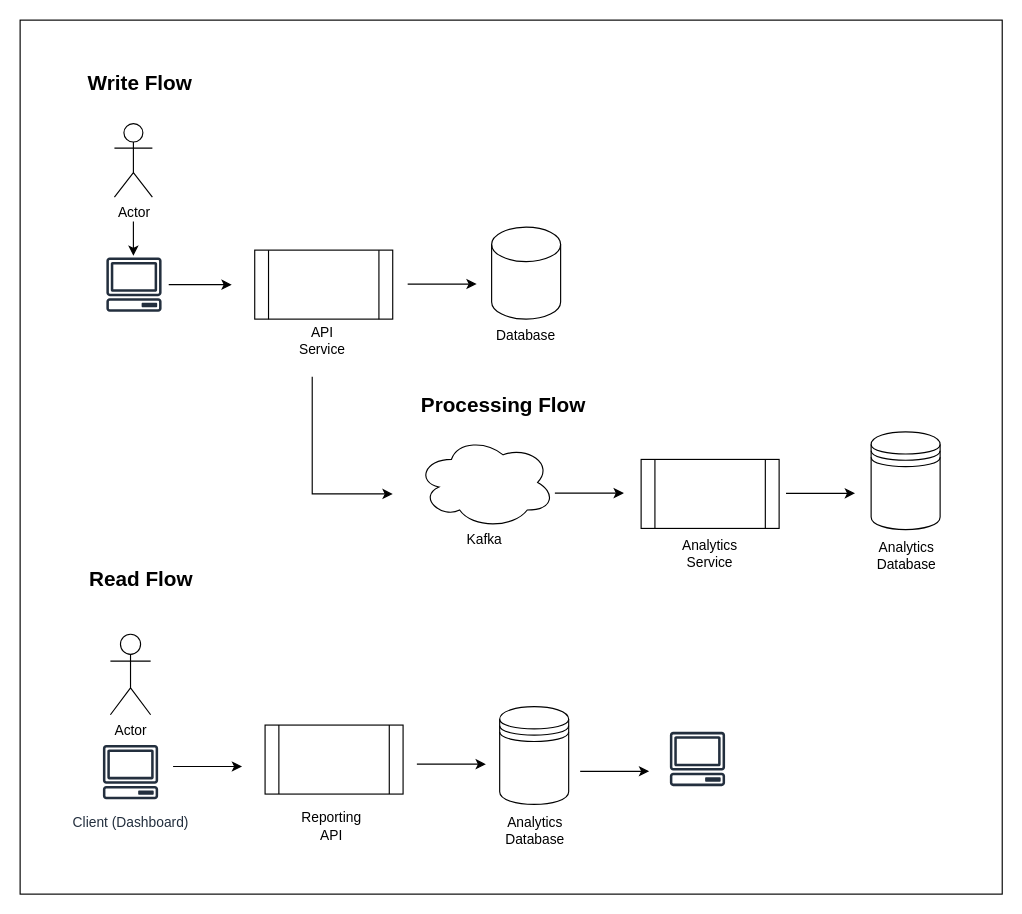
The diagram is 1022 pixels wide and 914 high, and some of its shapes have lost their labels. Each missing label, with the centre of its shape:
"Client (React UI)" belongs at [133,284].
"Client (Response)" belongs at [697,758].
